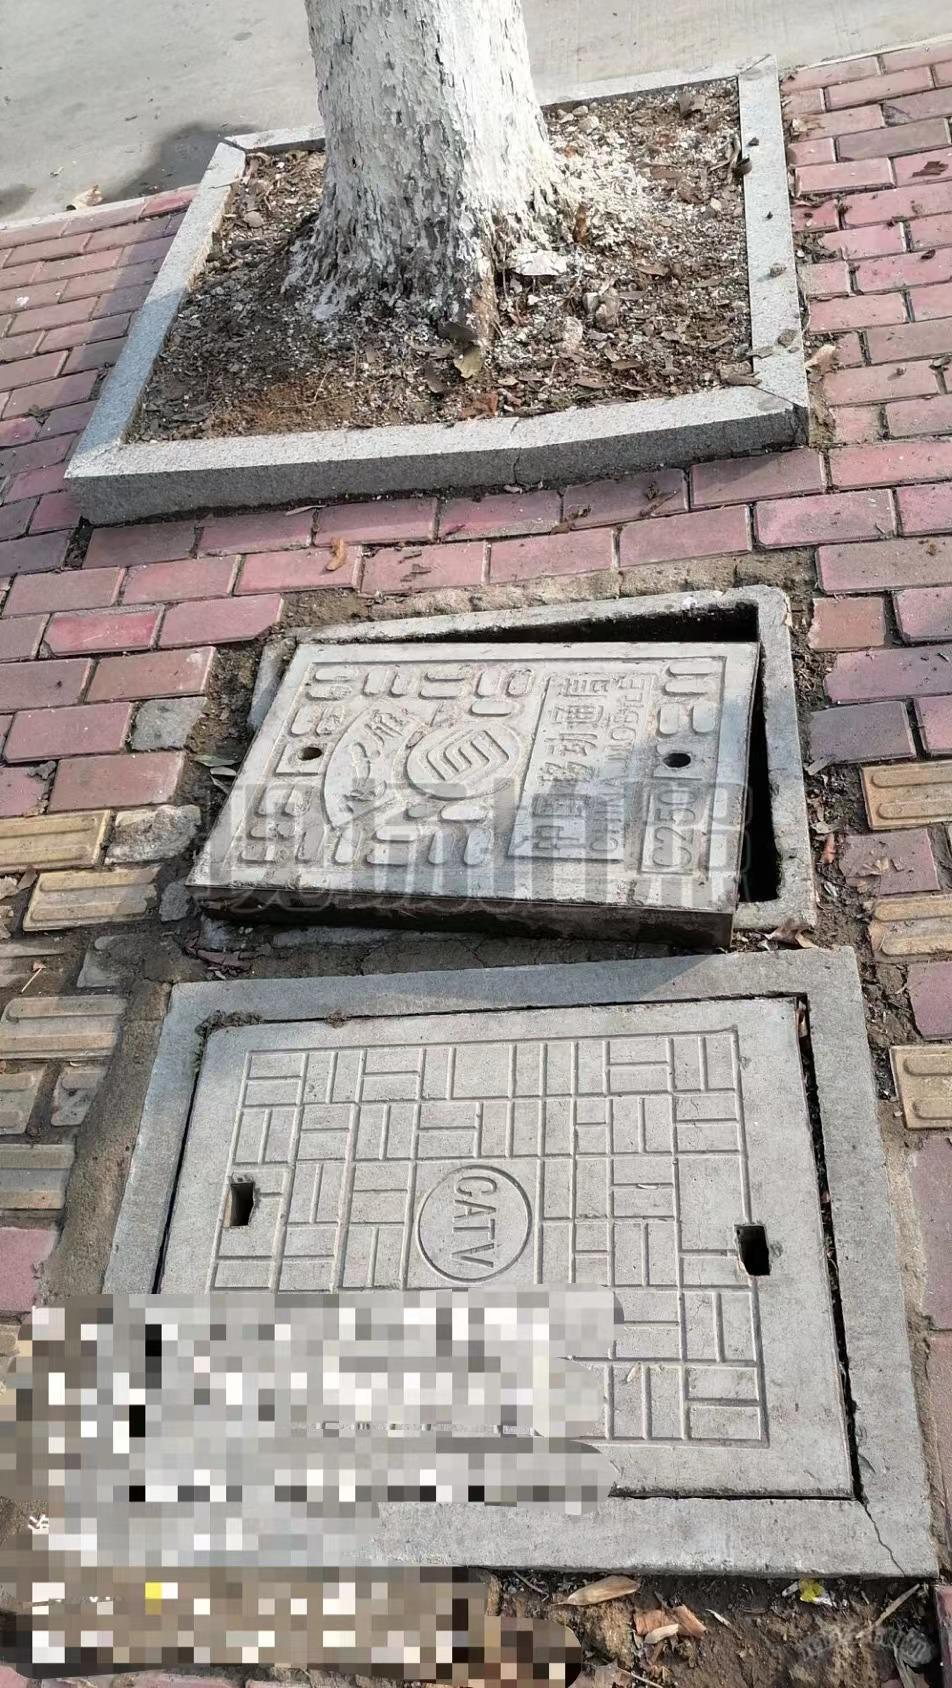wellcover: (118, 965, 928, 1555), (180, 602, 845, 923)
